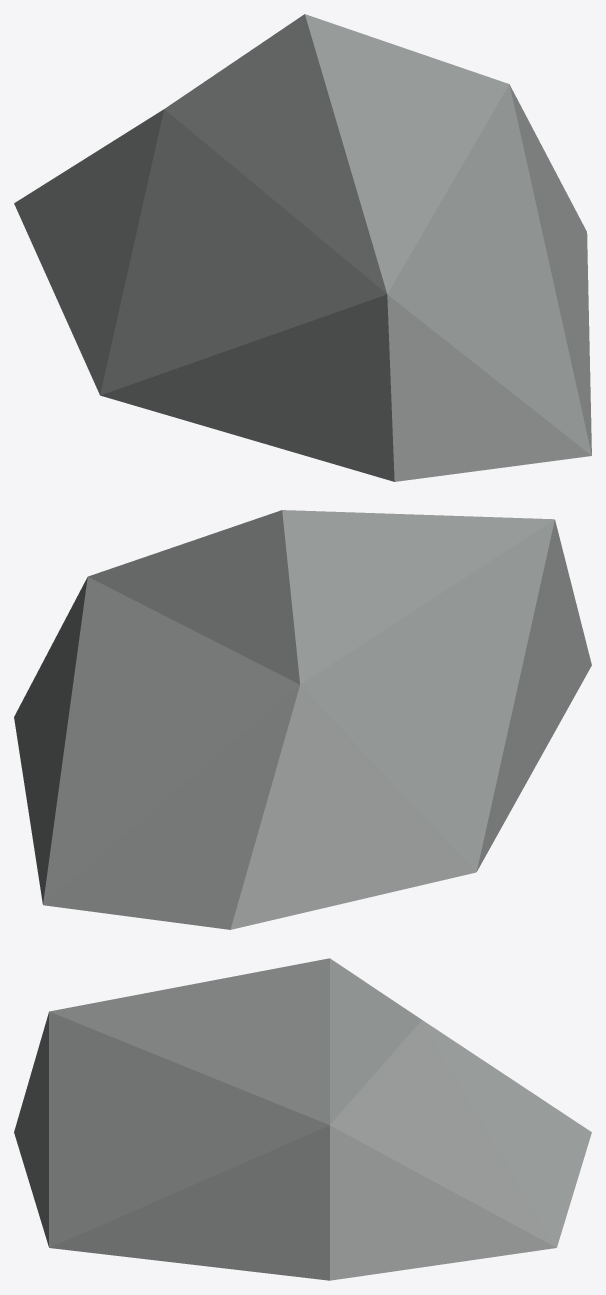
Rendered from tas3.fbx.
3 views of the same model, one above another, from view 1: azimuth 30°, elevation 25°; view 2: azimuth 150°, elevation 25°; view 3: azimuth 270°, elevation 25° (orthographic). The views are drawn at different scales.
Parts seen in each view (by area): view 1: tas3; view 2: tas3; view 3: tas3.
Boxes of the visible parts, box(x1,y1,x2,y2) form: tas3: box(14, 14, 591, 481); tas3: box(14, 510, 591, 929); tas3: box(14, 958, 591, 1280).
Size of the model in its own units: 97.04 by 63.14 by 131.
